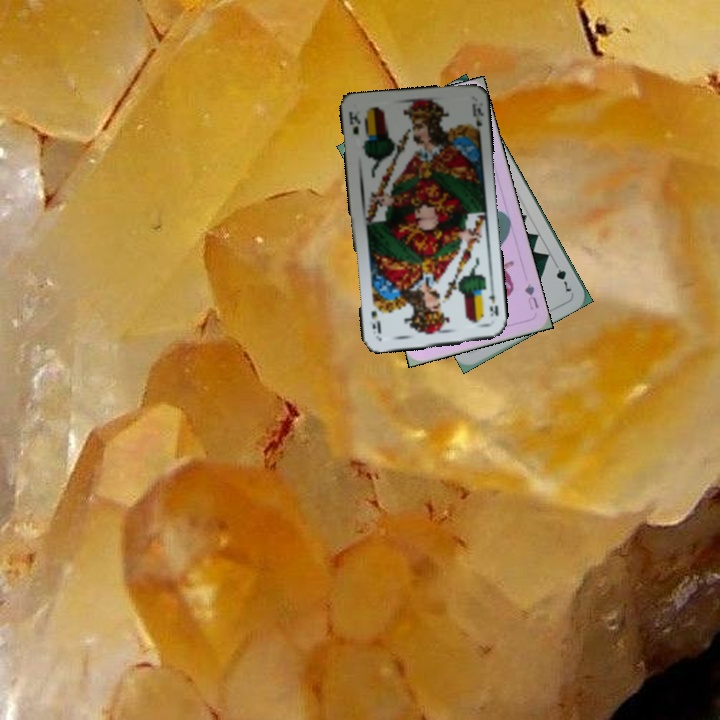EK: (485, 285, 501, 319), (345, 108, 363, 137)
G7: (549, 258, 574, 294)
GU: (521, 279, 541, 312)
